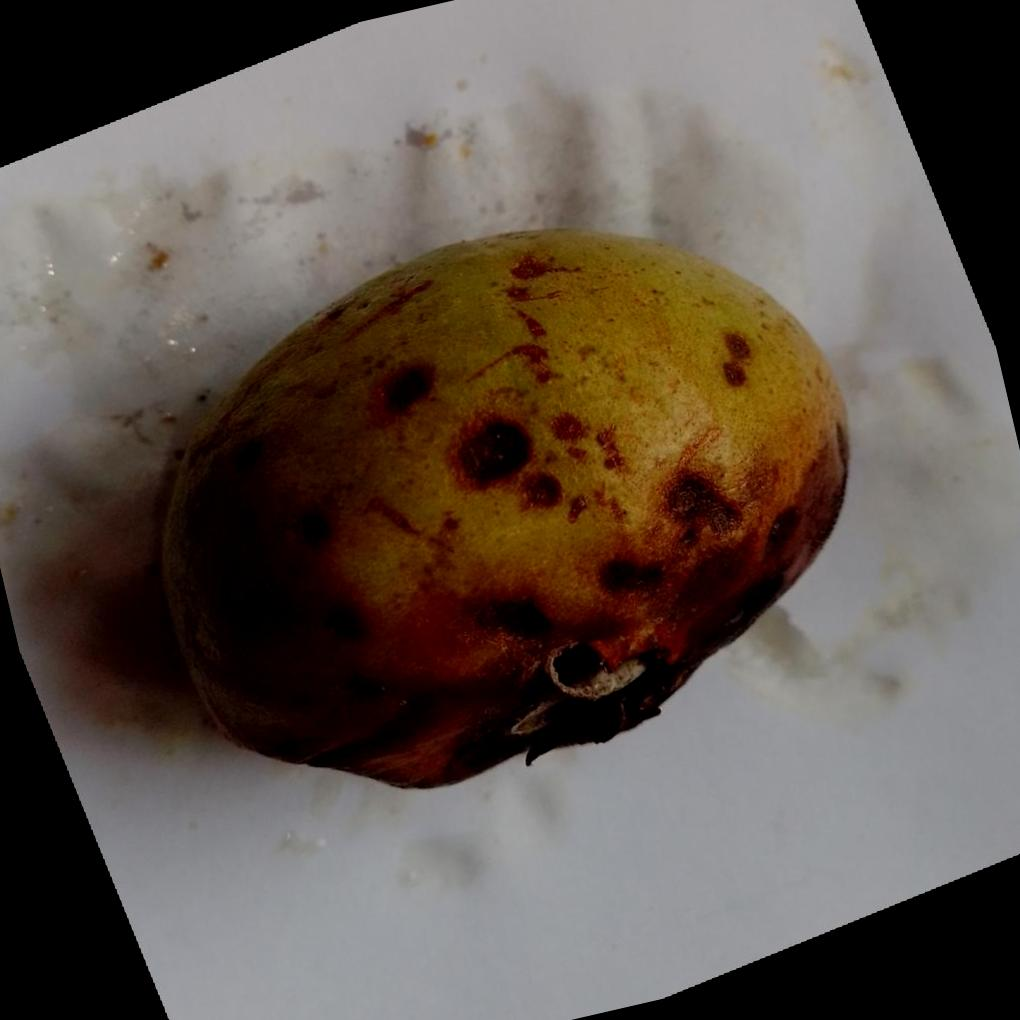FreshOrange: (155, 230, 850, 795)
